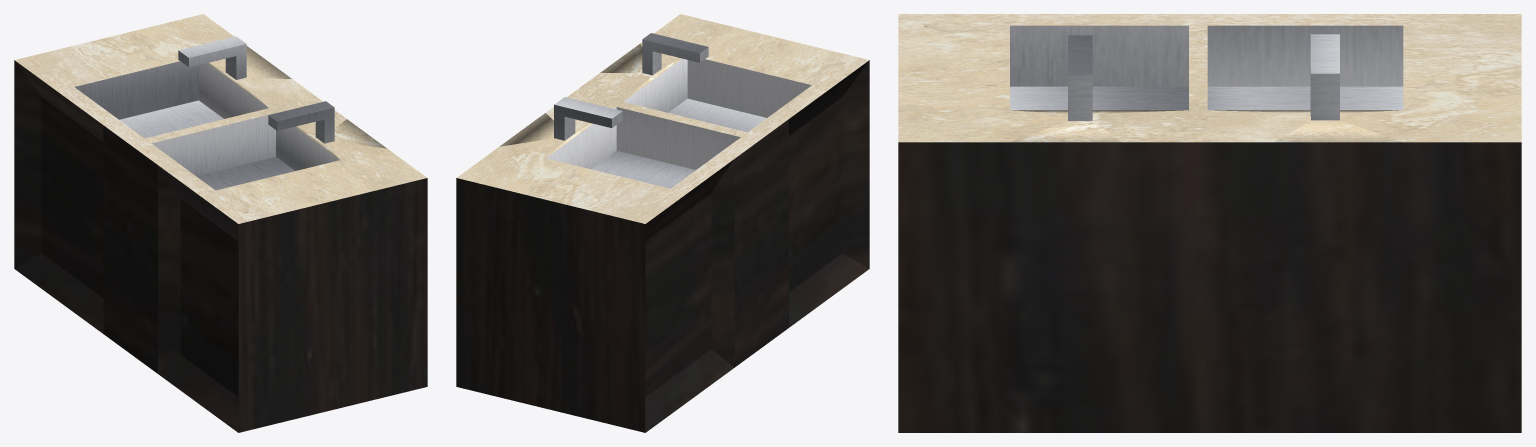
The model's file is ksink.fbx.
3 views of the same model, side by side, from view 1: azimuth 30°, elevation 25°; view 2: azimuth 150°, elevation 25°; view 3: azimuth 270°, elevation 25° (orthographic). The views are drawn at different scales.
Parts seen in each view (by area): view 1: pCube1; view 2: pCube1; view 3: pCube1.
Part boxes in pixels (left/top/right/bottom): pCube1: left=14, top=14, right=427, bottom=432; pCube1: left=456, top=14, right=869, bottom=432; pCube1: left=898, top=14, right=1521, bottom=432.
Bounding box in the file's own units: 0.8416 × 1.03 × 1.73.
1 material, 1 textured.
